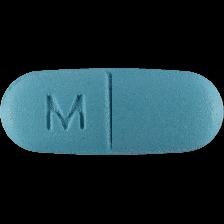0093-3045: (0, 0, 224, 224)
